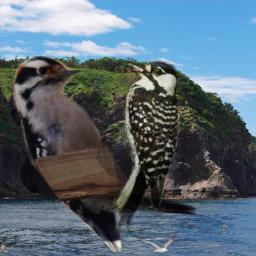Woodpecker: (13, 56, 196, 252), (113, 58, 178, 233)
